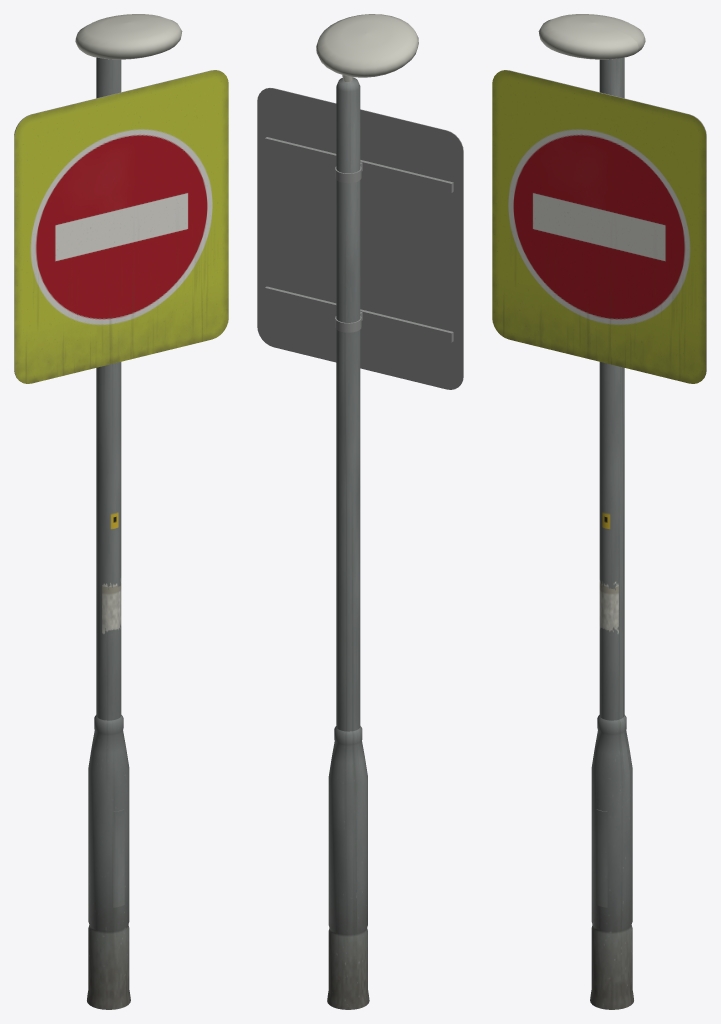
File: BGV_signpost_no_entry.glb
3 renders of one model, left to right at view 1: azimuth 30°, elevation 25°; view 2: azimuth 150°, elevation 25°; view 3: azimuth 330°, elevation 25°, orthographic. The views are drawn at different scales.
Visible parts, largest first — view 1: BGV_sign_plate, BGV_pole_base, BGV_pole, BGV_lamp; view 2: BGV_sign_plate, BGV_pole, BGV_pole_base, BGV_lamp, BGV_sign_mounts; view 3: BGV_sign_plate, BGV_pole_base, BGV_pole, BGV_lamp.
Boxes of the visible parts, box(x1,y1,x2,y2) form: BGV_sign_plate: box(14, 70, 228, 383); BGV_pole_base: box(87, 715, 130, 1009); BGV_pole: box(96, 57, 121, 720); BGV_lamp: box(75, 14, 182, 59); BGV_sign_plate: box(257, 88, 463, 389); BGV_pole: box(336, 77, 360, 731); BGV_pole_base: box(327, 726, 369, 1009); BGV_lamp: box(316, 14, 418, 81); BGV_sign_mounts: box(265, 137, 453, 342); BGV_sign_plate: box(492, 70, 706, 383); BGV_pole_base: box(590, 715, 633, 1009); BGV_pole: box(599, 57, 624, 720); BGV_lamp: box(538, 14, 645, 59).
Bounding box in the file's own units: 0.75 × 3.33 × 0.3489.
Materials: 5 (2 with a texture image).
